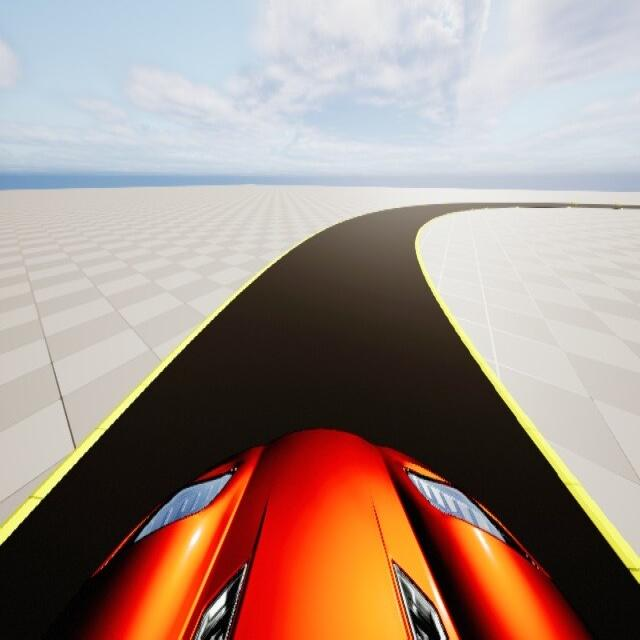lane: (0, 196, 639, 639)
